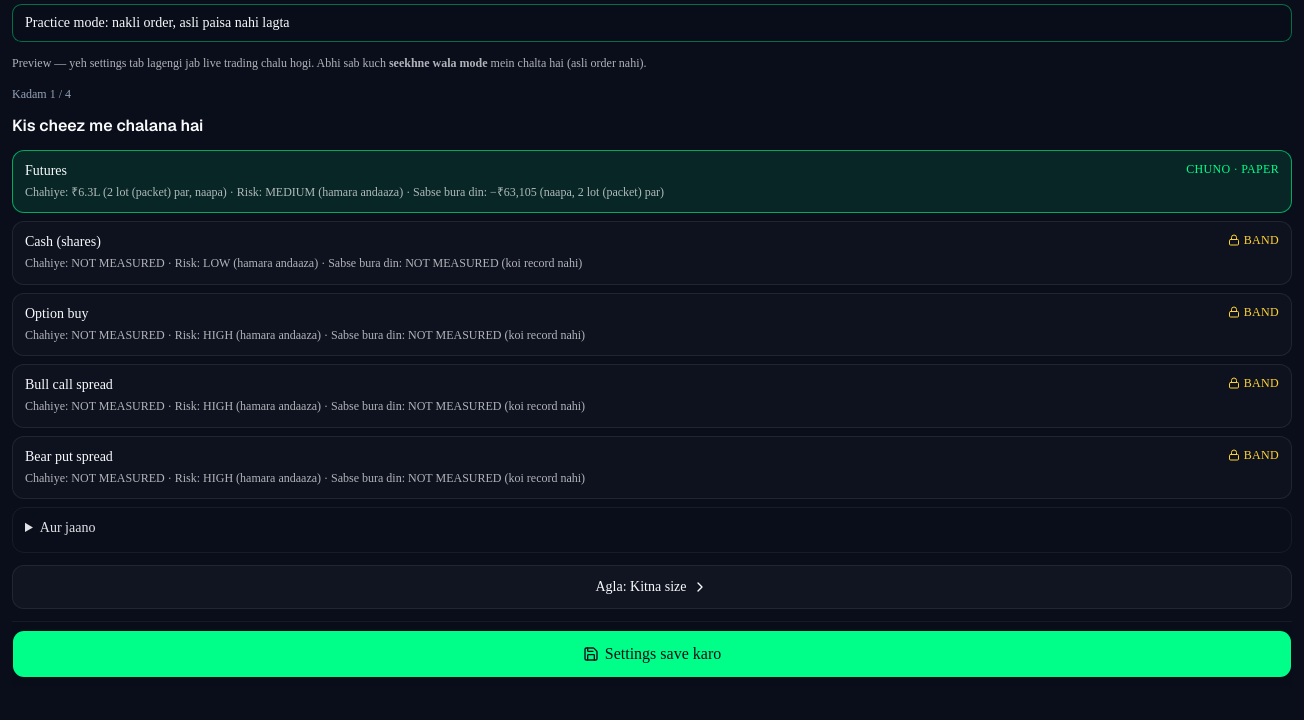
Test case: point 2 — one screen, one decision › exactly ONE step and exactly ONE primary button on screen, on every step
This screenshot has width=1304, height=720.
Expected: the heading with test id "settings-step-title" reads "Kis cheez me chalana hai", [12,114,203,136]
Click the button with test id "settings-next" at (652,587), box [12,565,1292,609]
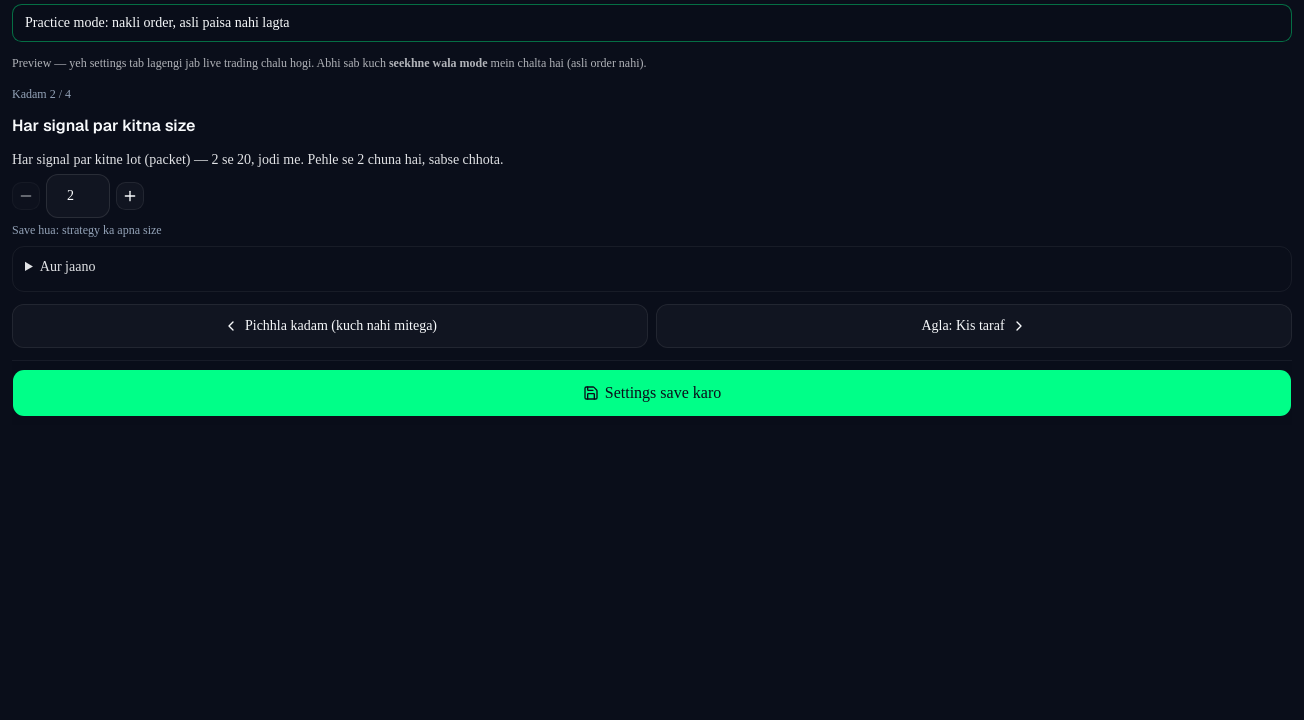
Expected: the heading with test id "settings-step-title" reads "Har signal par kitna size", [12,114,196,136]
Click the button with test id "settings-next" at (974,326), box [656,304,1292,348]
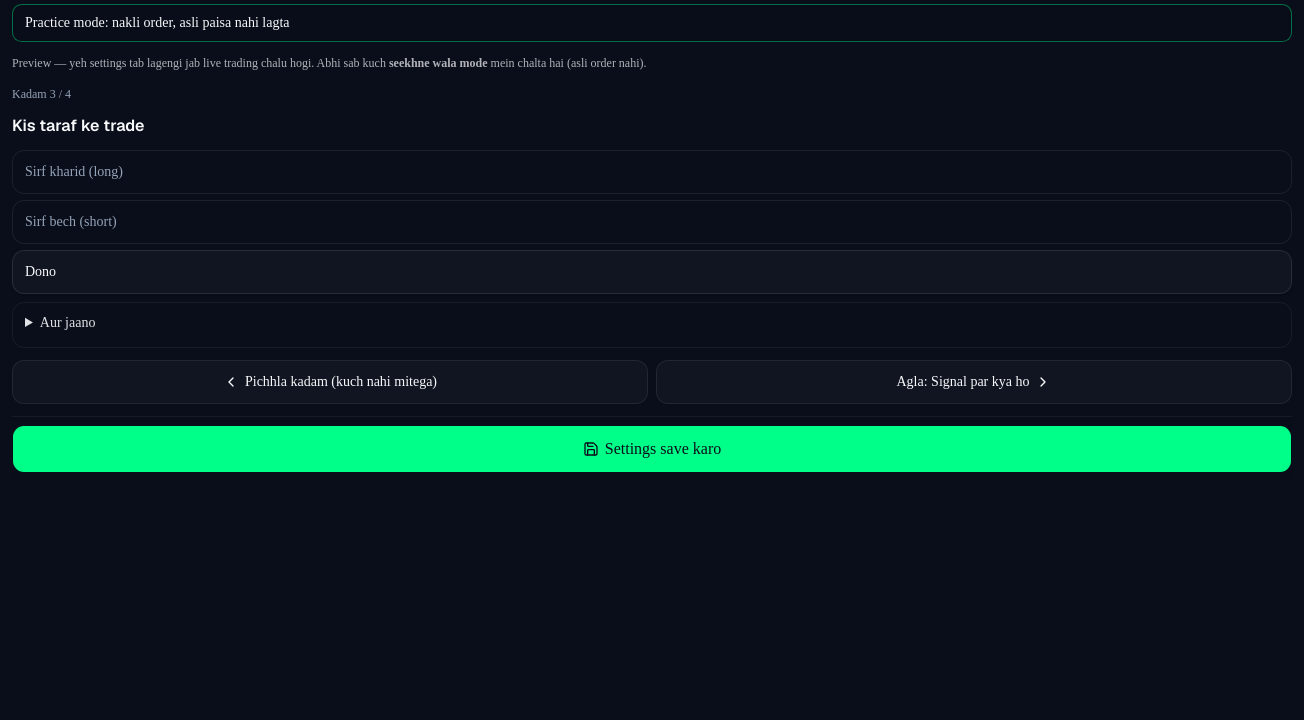
Expected: the heading with test id "settings-step-title" reads "Kis taraf ke trade", [12,114,144,136]
Click the button with test id "settings-next" at (974,382), box [656,360,1292,404]
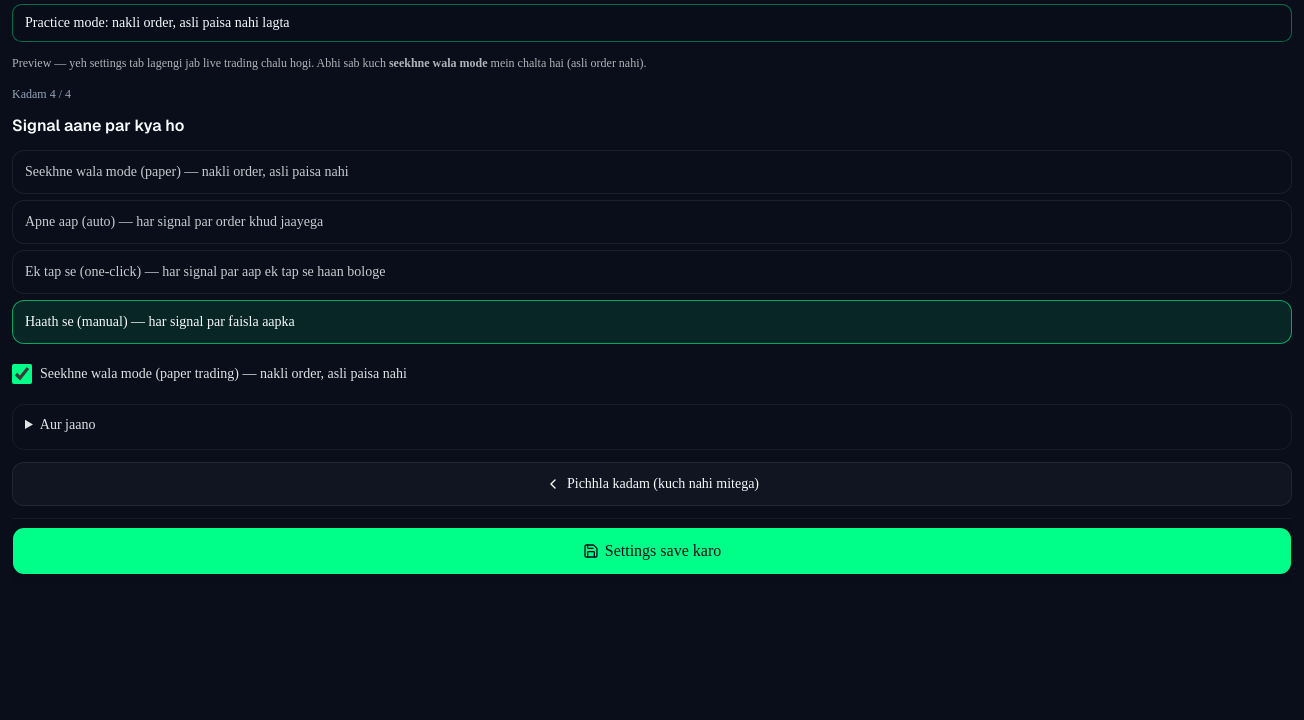
Expected: the heading with test id "settings-step-title" reads "Signal aane par kya ho", [12,114,184,136]
Expected: the button with test id "settings-next" is gone
